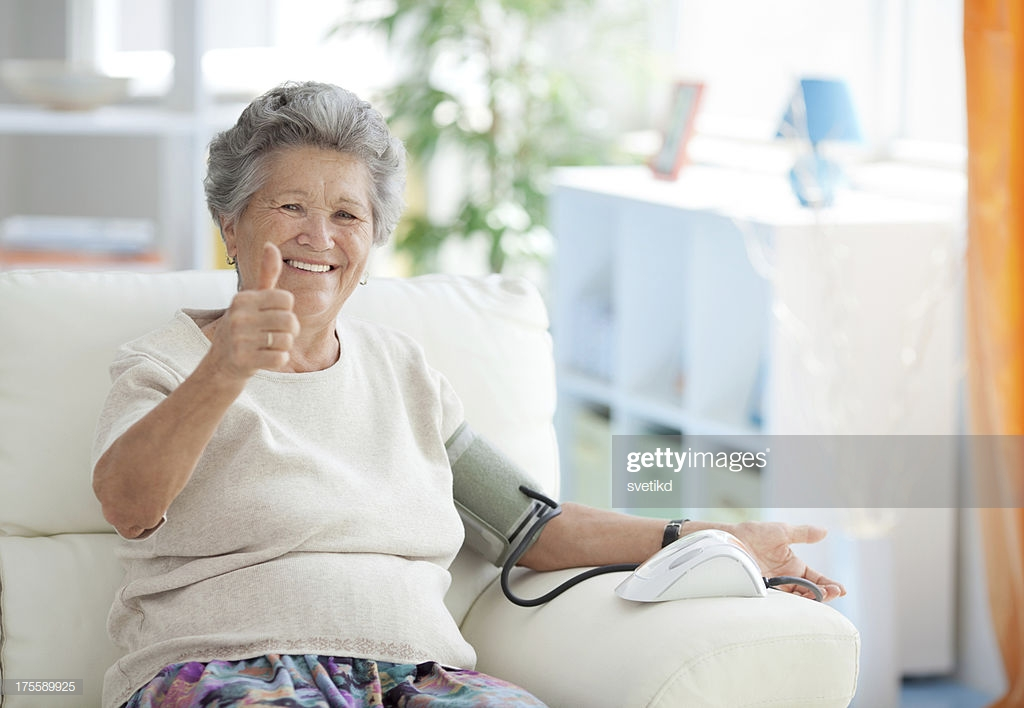thumbsup: (226, 241, 301, 372)
